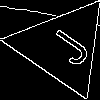J: (37, 21, 94, 69)
